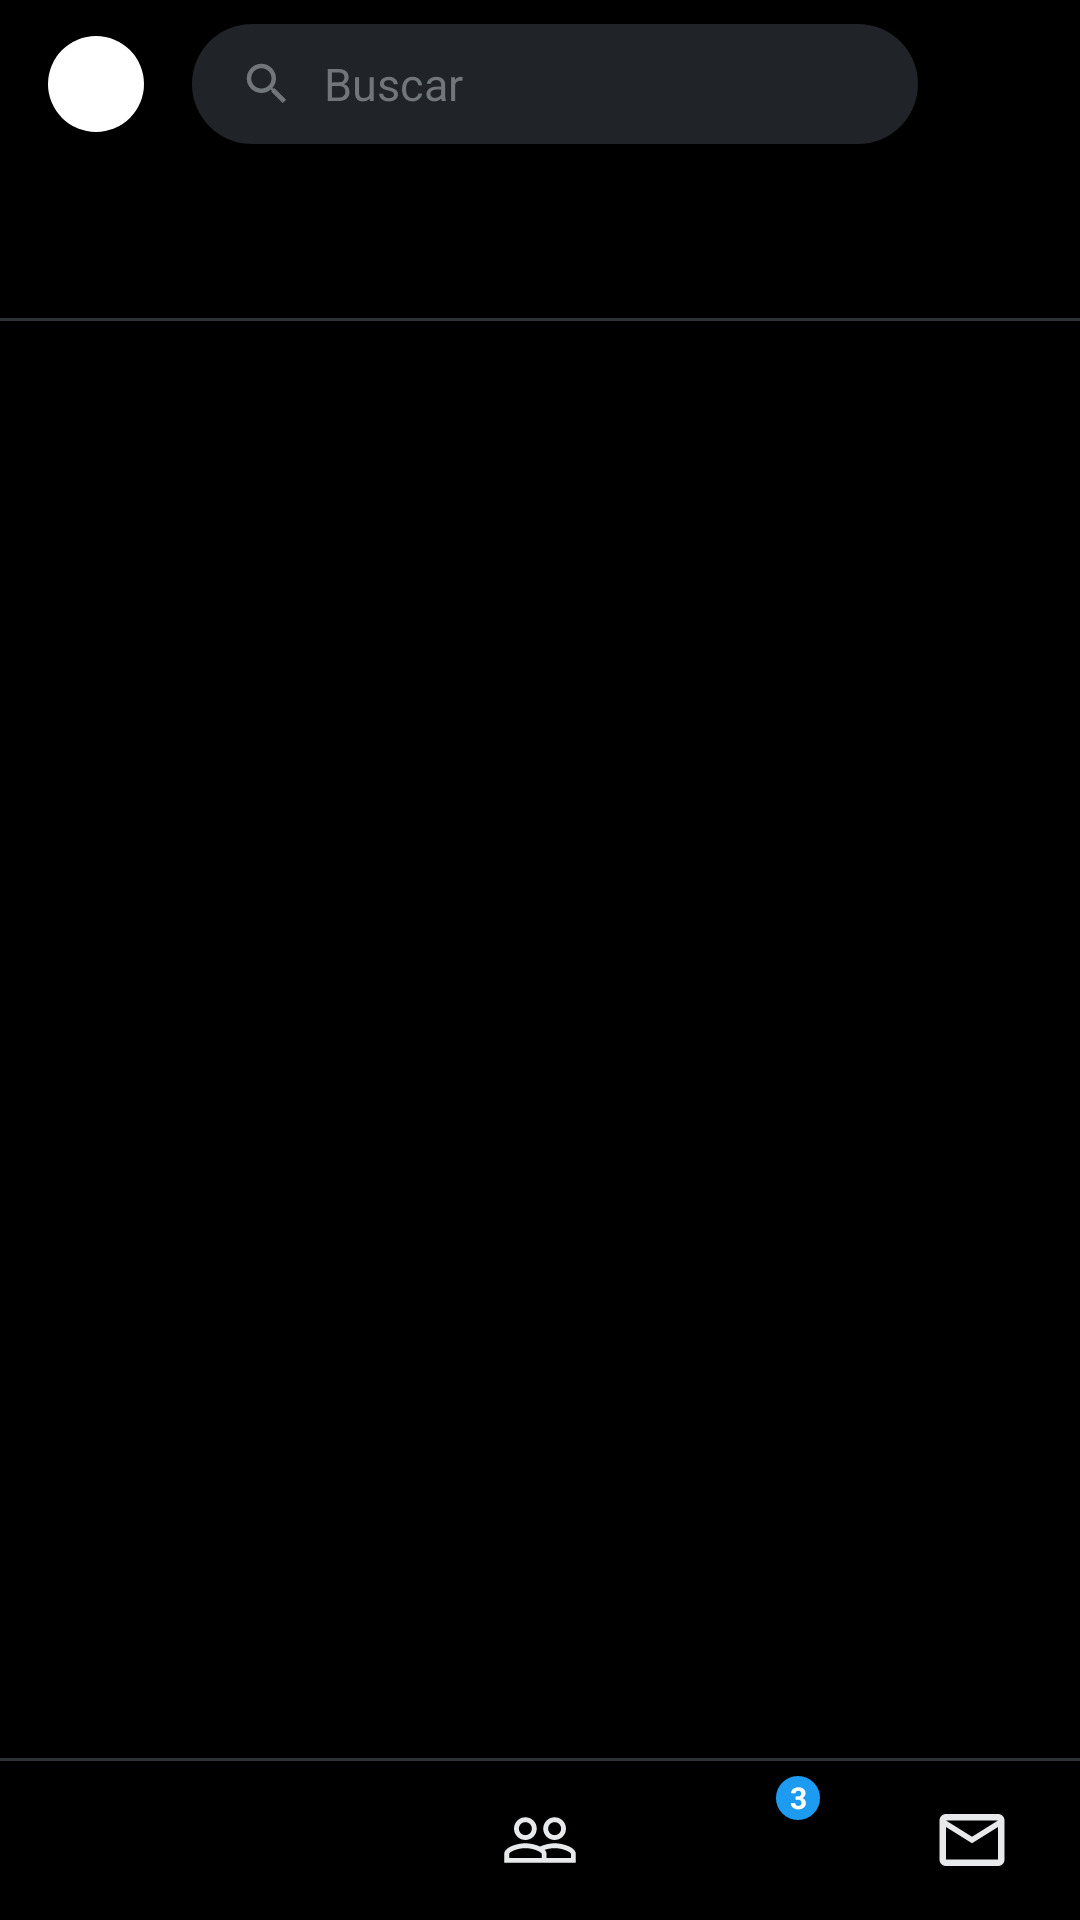

Point at icon controls on the screen. Image size 1080 × 1920, points as (x,y).
mail: (972,1840)
people: (540,1840)
